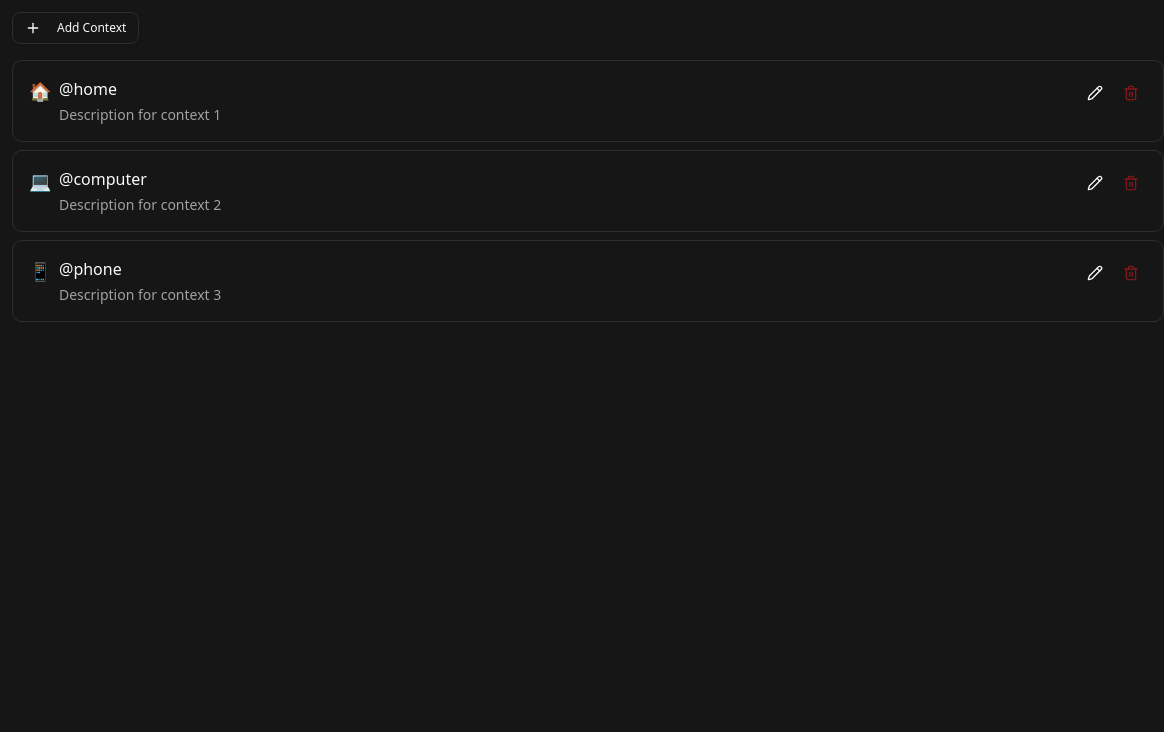
it: ContextManager › canceling form › hides form when close button (X) is clicked
Click the button "Add Context". click: click(76, 28)
box: [12,12,139,44]
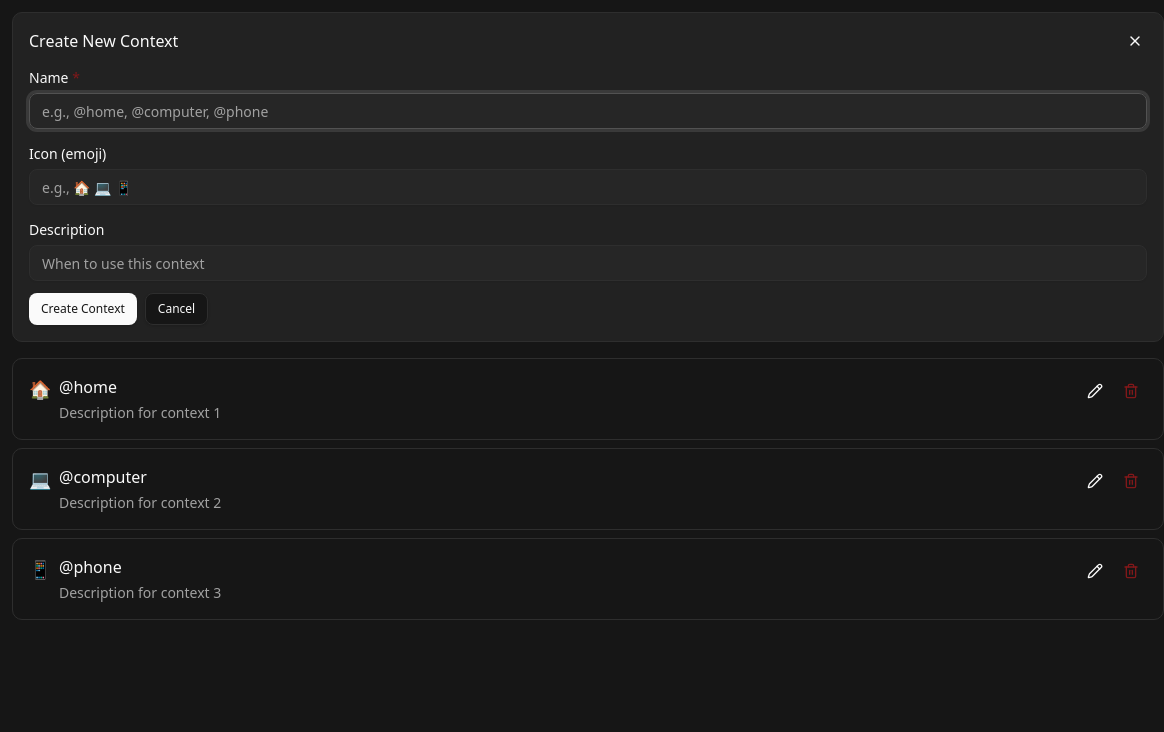
Click the 1st button. click: click(1135, 41)
box: [1123,29,1147,53]
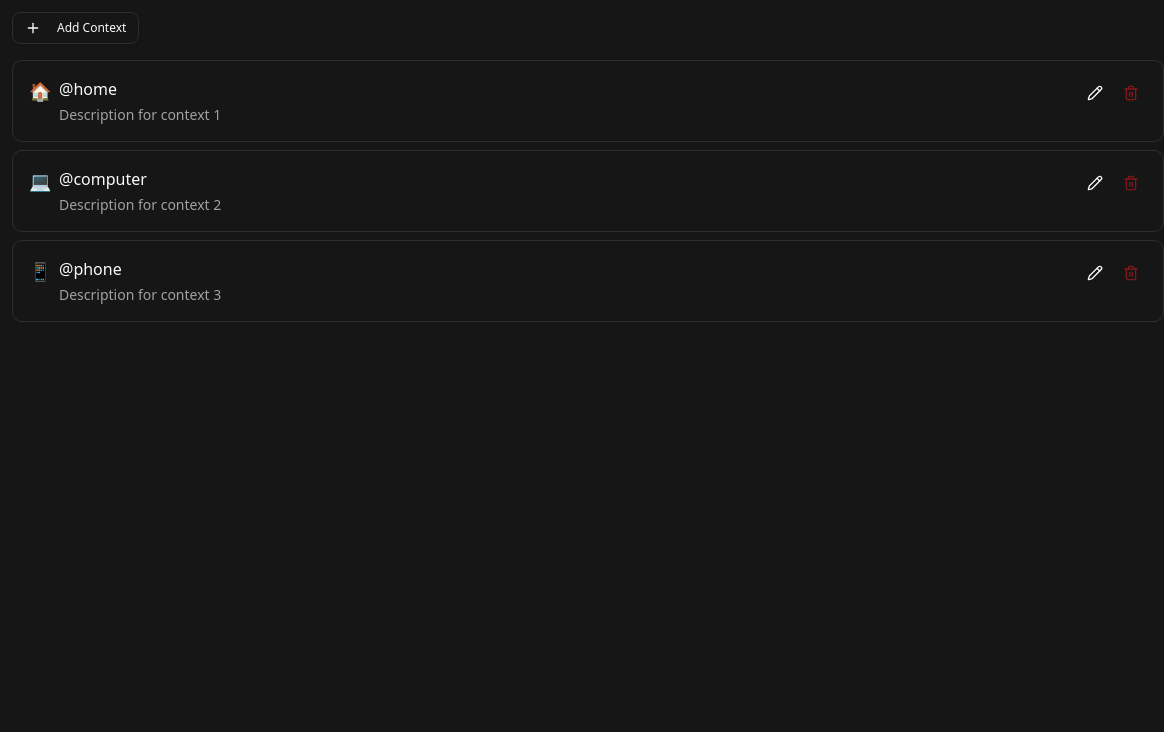
Expected: the heading "Create New Context" is gone
